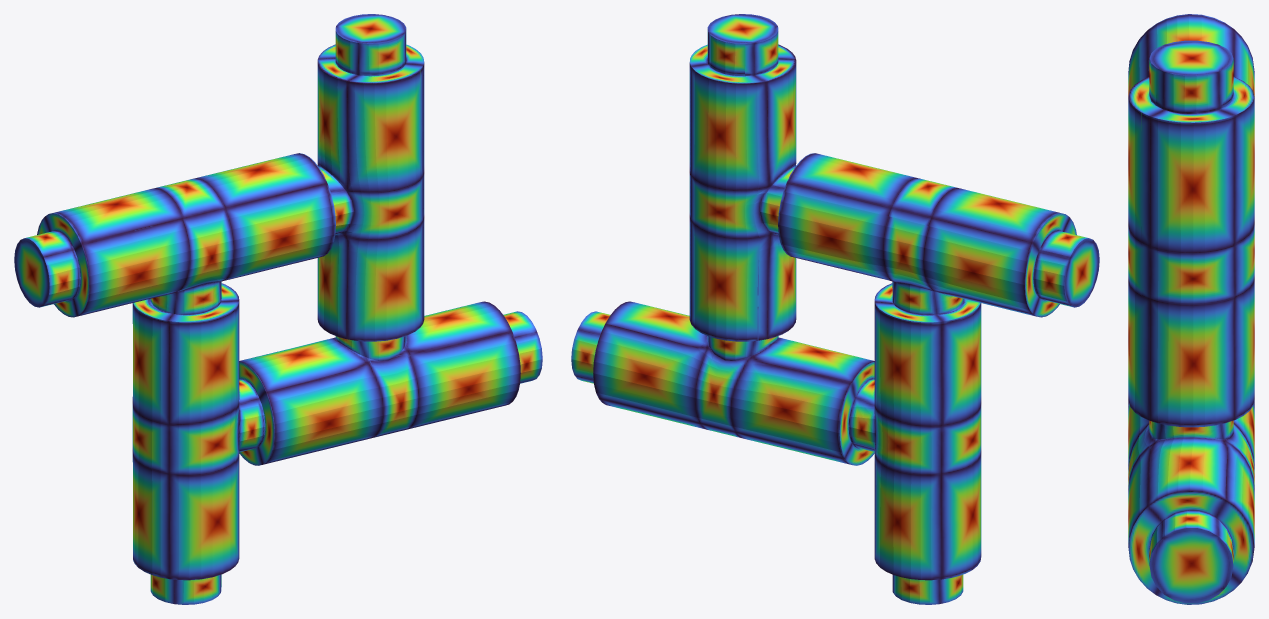
File: gen3.glb
3 renders of one model, left to right at view 1: azimuth 30°, elevation 25°; view 2: azimuth 150°, elevation 25°; view 3: azimuth 270°, elevation 25°, orthographic. The views are drawn at different scales.
Parts seen in each view (by area): view 1: Node; view 2: Node; view 3: Node.
Part boxes in pixels (<box>): Node: <box>14,14,542,604</box>; Node: <box>571,14,1099,604</box>; Node: <box>1128,14,1254,604</box>.
Bounding box in the file's own units: 320 × 320 × 60.
1 material, 1 textured.
